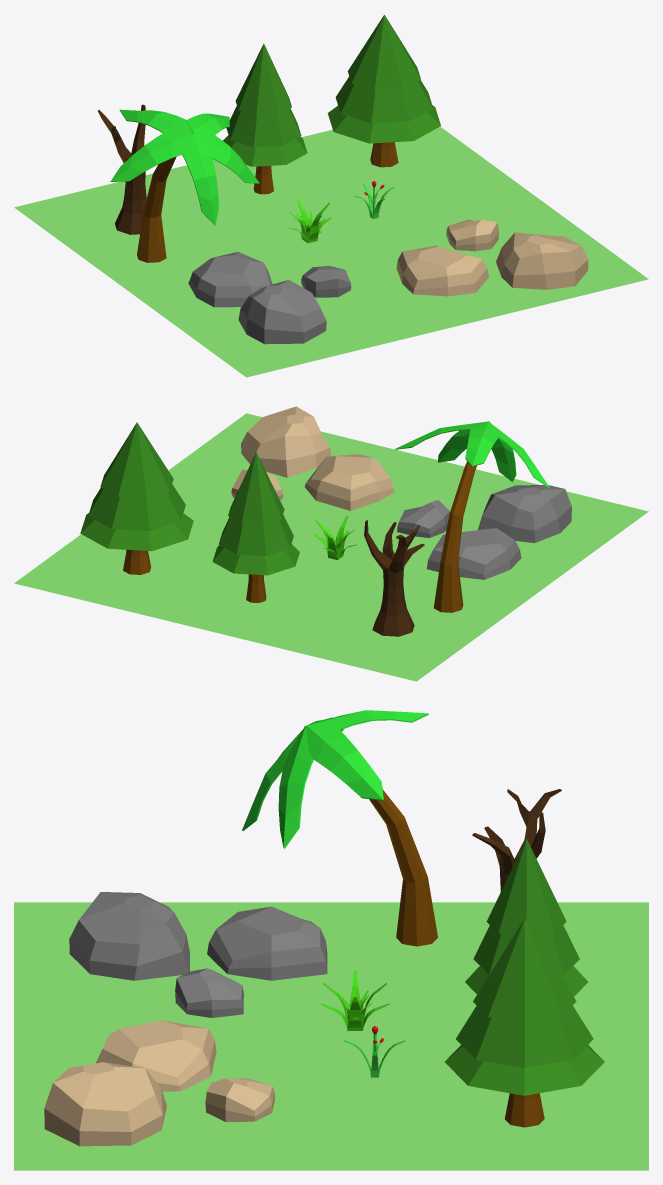
3 renders of one model, top to bottom at view 1: azimuth 30°, elevation 25°; view 2: azimuth 150°, elevation 25°; view 3: azimuth 270°, elevation 25°, orthographic. The views are drawn at different scales.
Parts seen in each view (by area): view 1: Ground, Tree2, Tree1, Tree3, SandRock2, Rock2, SandRock1, Rock1, DriedTree, SandRock3, Rock3, Fern; view 2: Ground, Tree2, Tree3, Tree1, SandRock2, Rock2, SandRock1, DriedTree, Rock1, Rock3, Fern; view 3: Ground, Tree2, Tree1, Rock2, SandRock2, Tree3, Rock1, SandRock1, Rock3, SandRock3, DriedTree, Fern.
Boxes of the visible parts, x1,y1,x2,y2 form: Ground: (14,126,648,377); Tree2: (327,15,440,167); Tree1: (110,109,259,262); Tree3: (223,43,307,194); SandRock2: (496,232,588,289); Rock2: (238,280,326,344); SandRock1: (396,245,488,296); Rock1: (188,252,272,307); DriedTree: (98,104,146,234); SandRock3: (446,219,498,251); Rock3: (301,266,351,297); Fern: (288,199,331,243); Ground: (14,413,648,681); Tree2: (80,422,193,574); Tree3: (212,452,299,602); Tree1: (395,421,549,612); SandRock2: (241,406,331,477); Rock2: (478,485,571,543); SandRock1: (304,454,394,510); DriedTree: (364,520,424,636); Rock1: (427,528,521,579); Rock3: (397,500,449,537); Fern: (314,515,357,560); Ground: (14,902,648,1170); Tree2: (445,918,604,1127); Tree1: (242,710,437,946); Rock2: (69,892,189,980); SandRock2: (44,1062,166,1146); Tree3: (465,838,587,996); Rock1: (207,906,327,980); SandRock1: (96,1020,216,1091); Rock3: (175,968,243,1017); SandRock3: (205,1078,274,1121); DriedTree: (472,789,561,891); Fern: (321,970,389,1030).
Bounding box in the file's own units: 797 × 289 × 762.
